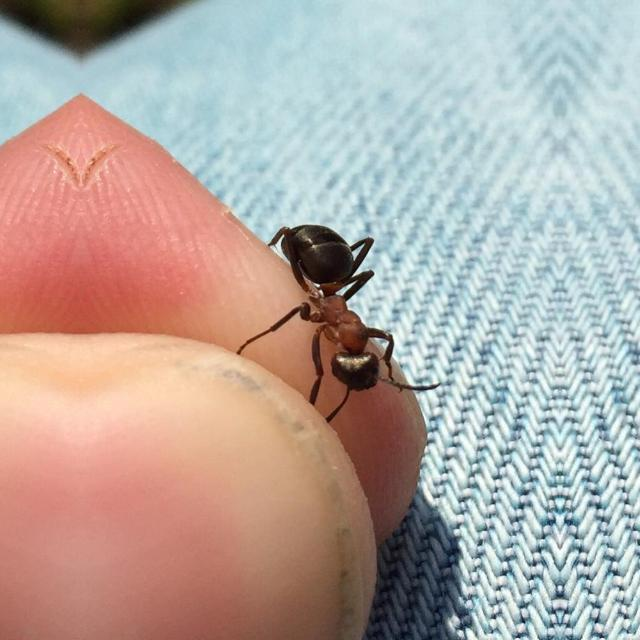Formica: (260, 216, 428, 422)
